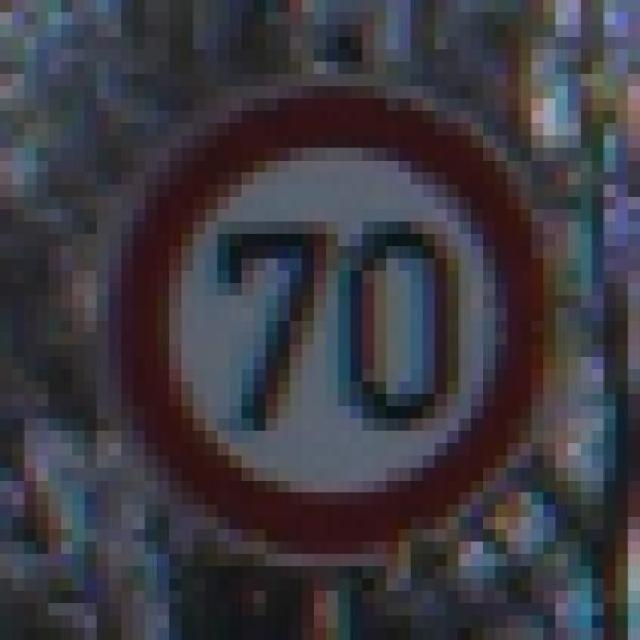forb_speed_over_70: (113, 88, 555, 562)
